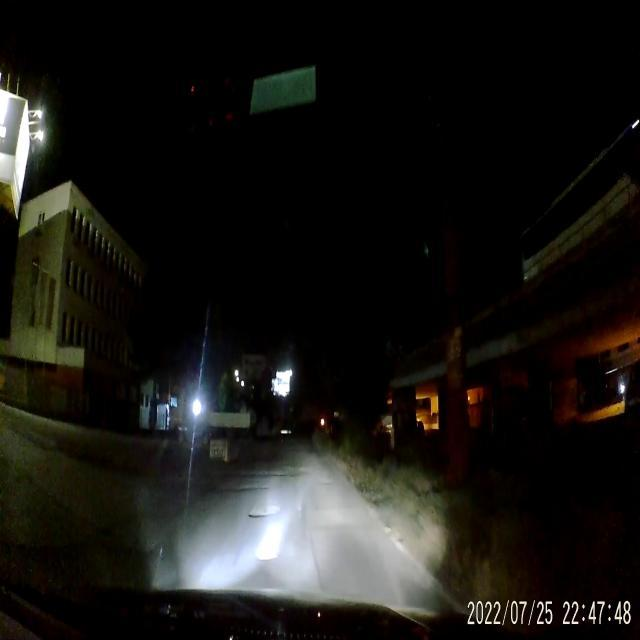Pothole: (256, 534, 282, 564), (248, 502, 282, 518), (246, 469, 284, 482), (230, 484, 266, 496)
